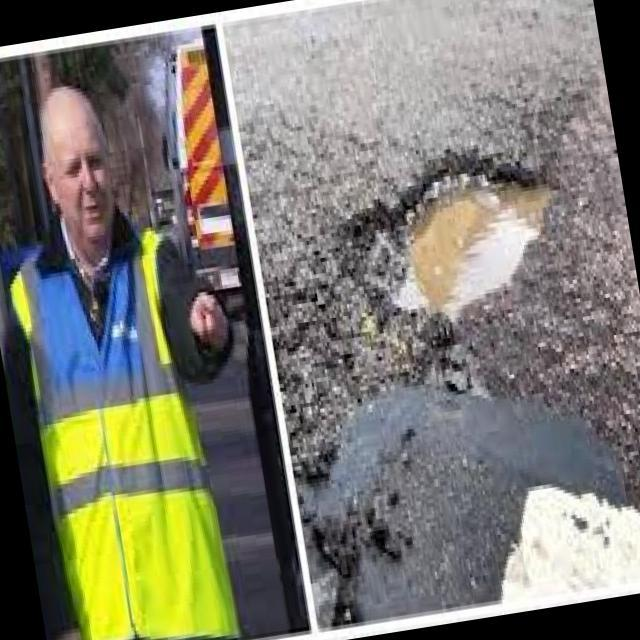Pothole: (364, 158, 557, 325)
